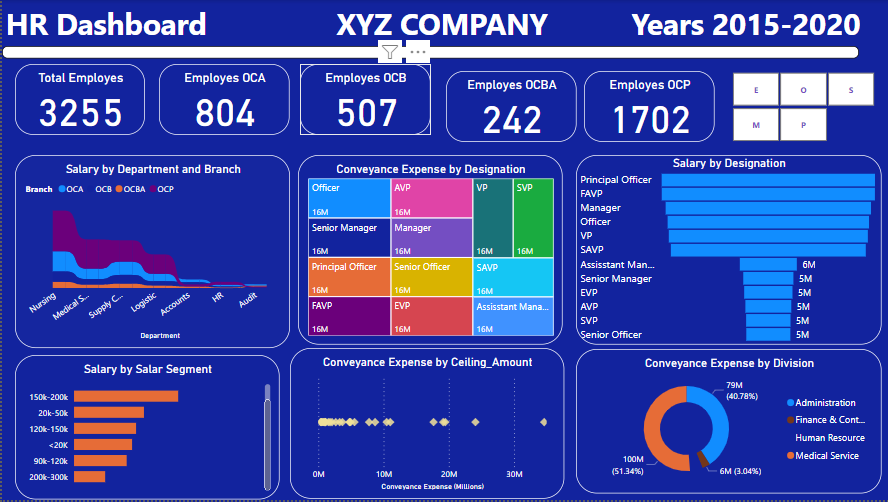

Layout of this report page (visuals, bound fields, positions):
{"tool":"powerbi","page":{"name":"Page 2","canvas":[1280,720],"ordinal":1},"visuals":[{"type":"textbox","box":[0,0,319.7,102.2],"z":0},{"type":"textbox","box":[468,0,341.3,73.4],"z":1000},{"type":"textbox","box":[901.4,0,347,149.8],"z":2000},{"type":"textbox","box":[0,66.2,1234.1,13],"z":3000},{"type":"card","title":"Total Employes","fields":{"Values":["CountNonNull(HR_Data.Employee ID)"]},"box":[18.7,92.2,187.2,102.2],"z":4000},{"type":"card","title":" Employes OCA","fields":{"Values":["CountNonNull(HR_Data.Branch)"]},"box":[226.5,92.3,187.9,102.3],"z":5000},{"type":"card","title":"Employes OCB","fields":{"Values":["CountNonNull(HR_Data.Branch)"]},"box":[429.5,92.3,187.9,102.3],"z":6000},{"type":"card","title":"Employes OCBA","fields":{"Values":["CountNonNull(HR_Data.Branch)"]},"box":[639.2,102.3,187.9,102.3],"z":7000},{"type":"card","title":"Employes OCP","fields":{"Values":["CountNonNull(HR_Data.Branch)"]},"box":[838.8,102.3,187.9,102.3],"z":8000},{"type":"ribbonChart","title":"Salary by Department and Branch","fields":{"Category":["HR_Data.Department"],"Y":["Sum(HR_Data.Salary)"],"Series":["HR_Data.Branch"]},"box":[18.5,223.1,395.9,278.5],"z":9000},{"type":"treemap","title":"Conveyance Expense by Designation","fields":{"Group":["HR_Data.Designation"],"Values":["Sum(HR_Data.Conveyance Expense)"]},"box":[426.1,223.1,380.8,273.4],"z":10000},{"type":"clusteredBarChart","title":" Salary by Salar Segment","fields":{"Category":["HR_Data.Salar Seg."],"Y":["Sum(HR_Data.Salary)"]},"box":[18.5,511.7,380.8,208],"z":11000},{"type":"slicer","fields":{"Values":["HR_Data.Grade"]},"box":[1026.7,97.3,253.3,112.4],"z":12000},{"type":"scatterChart","title":" Conveyance Expense by Ceiling_Amount","fields":{"Category":["HR_Data.Ceiling_Amount"],"X":["Sum(HR_Data.Conveyance Expense)"]},"box":[414.7,501.1,394.6,217.4],"z":13000},{"type":"funnel","title":"Salary by Designation","fields":{"Category":["HR_Data.Designation"],"Y":["Sum(HR_Data.Salary)"]},"box":[827.1,223.1,439.5,273.4],"z":13001},{"type":"donutChart","title":" Conveyance Expense by Division","fields":{"Y":["Sum(HR_Data.Conveyance Expense)"],"Series":["HR_Data.Division"]},"box":[827,502,440,208],"z":13002}]}

Visuals, with their boxes in screenshot pixels (x1, y1, x2, y2), scaled from the page's 1280x720 canvas onto the 888x502 screenshot:
textbox: <box>0,0,222,71</box>
textbox: <box>325,0,561,51</box>
textbox: <box>625,0,866,104</box>
textbox: <box>0,46,856,55</box>
"Total Employes" card: <box>13,64,143,136</box>
" Employes OCA" card: <box>157,64,287,136</box>
"Employes OCB" card: <box>298,64,428,136</box>
"Employes OCBA" card: <box>443,71,574,143</box>
"Employes OCP" card: <box>582,71,712,143</box>
"Salary by Department and Branch" ribbonChart: <box>13,156,287,350</box>
"Conveyance Expense by Designation" treemap: <box>296,156,560,346</box>
" Salary by Salar Segment" clusteredBarChart: <box>13,357,277,501</box>
slicer - HR_Data.Grade: <box>712,68,887,146</box>
" Conveyance Expense by Ceiling_Amount" scatterChart: <box>288,349,561,501</box>
"Salary by Designation" funnel: <box>574,156,879,346</box>
" Conveyance Expense by Division" donutChart: <box>574,350,879,495</box>
